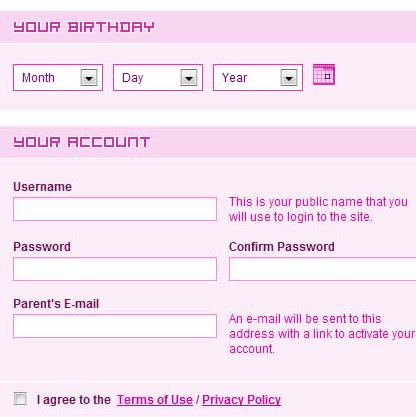checkbox: (14, 390, 31, 406)
checkbox_with_label: (10, 387, 283, 409)
field: (9, 311, 217, 339), (11, 255, 218, 283), (11, 194, 217, 222), (12, 63, 104, 92), (111, 63, 203, 92), (212, 63, 304, 92)
field_with_label: (8, 240, 220, 285), (9, 179, 220, 224), (7, 298, 220, 341)
